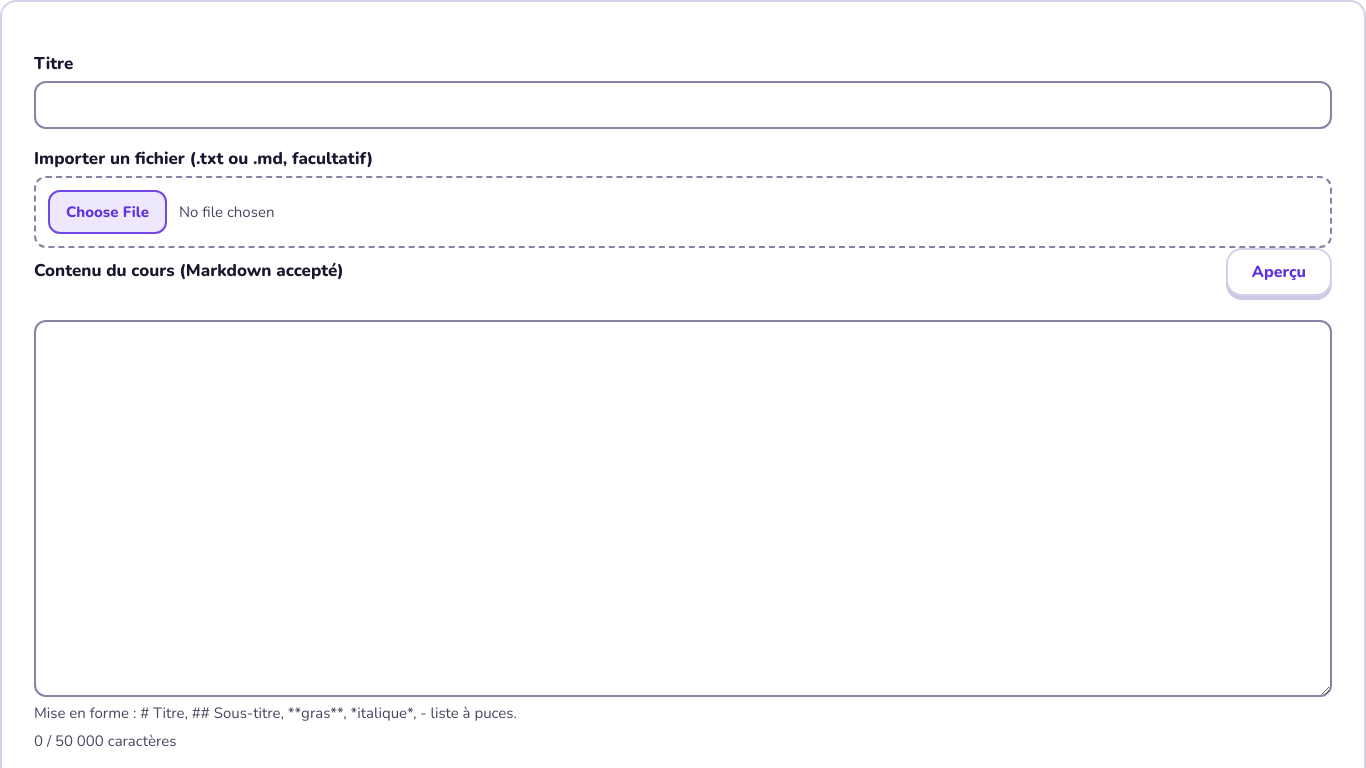
it: FormulaireCours › un titre vide n'est pas envoyé : le champ est marqué en erreur et relié au message
Type "Texte." into the text box labelled "Contenu du cours (Markdown accepté)" at [683, 509], box [34,320,1332,697]
(page scrolled)
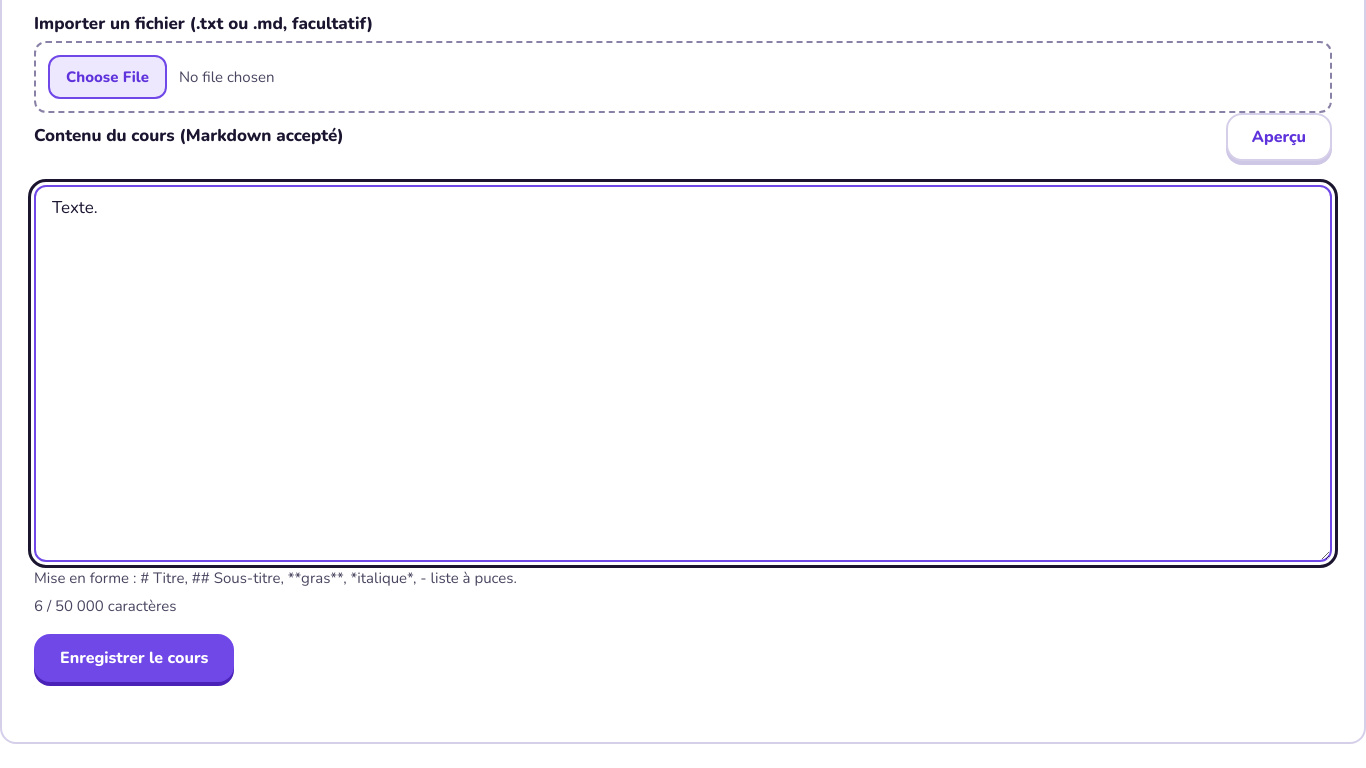
Click the button "Enregistrer le cours" at [134, 658], box [34,634,234,682]
(page scrolled)
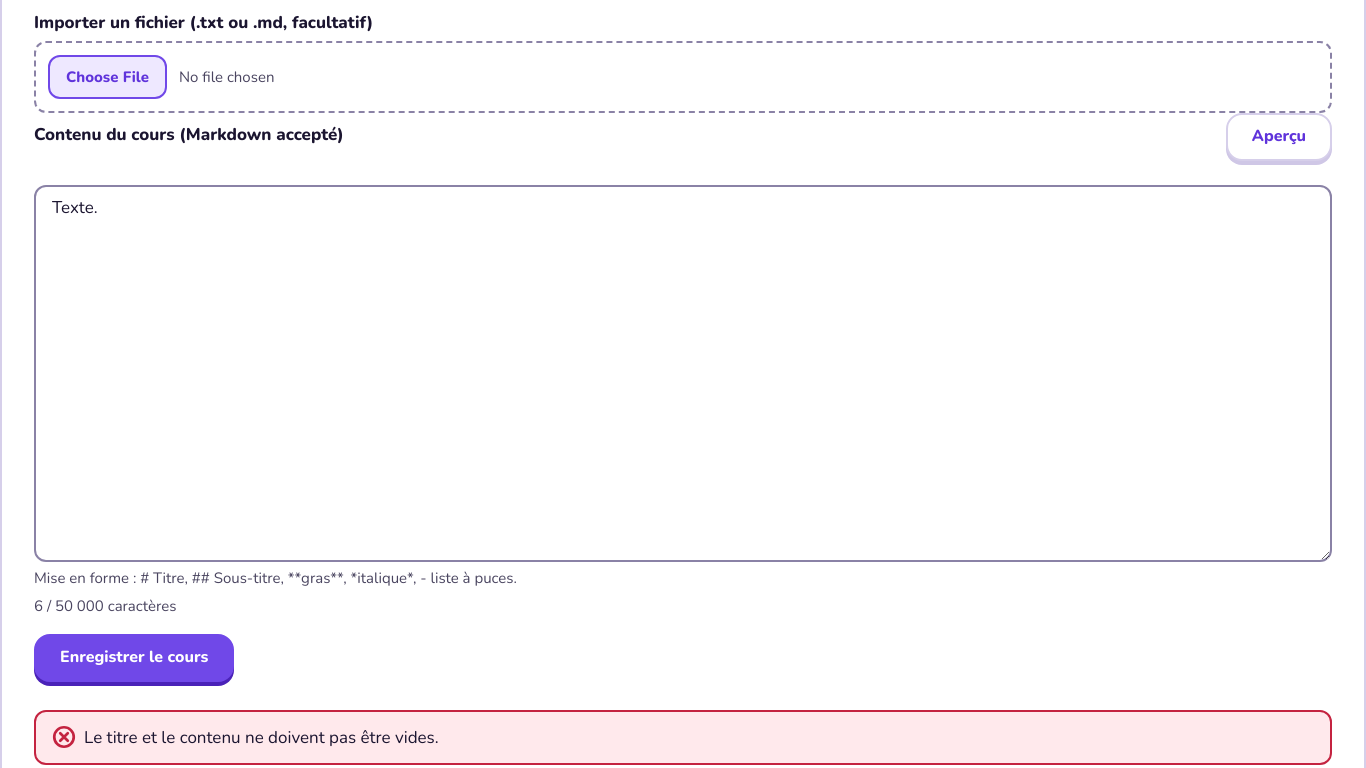
Check: the message reads "Le titre et le contenu ne doivent pas être vides.", box [84,726,439,749]
